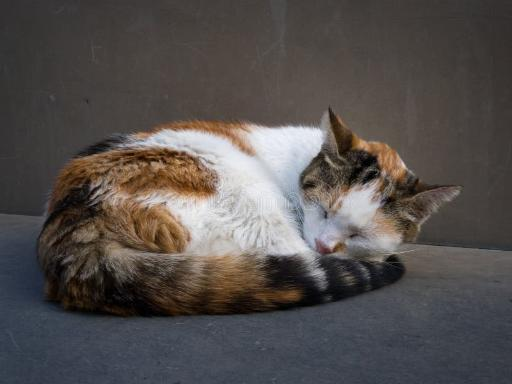cat_sleeping: (38, 108, 461, 315)
